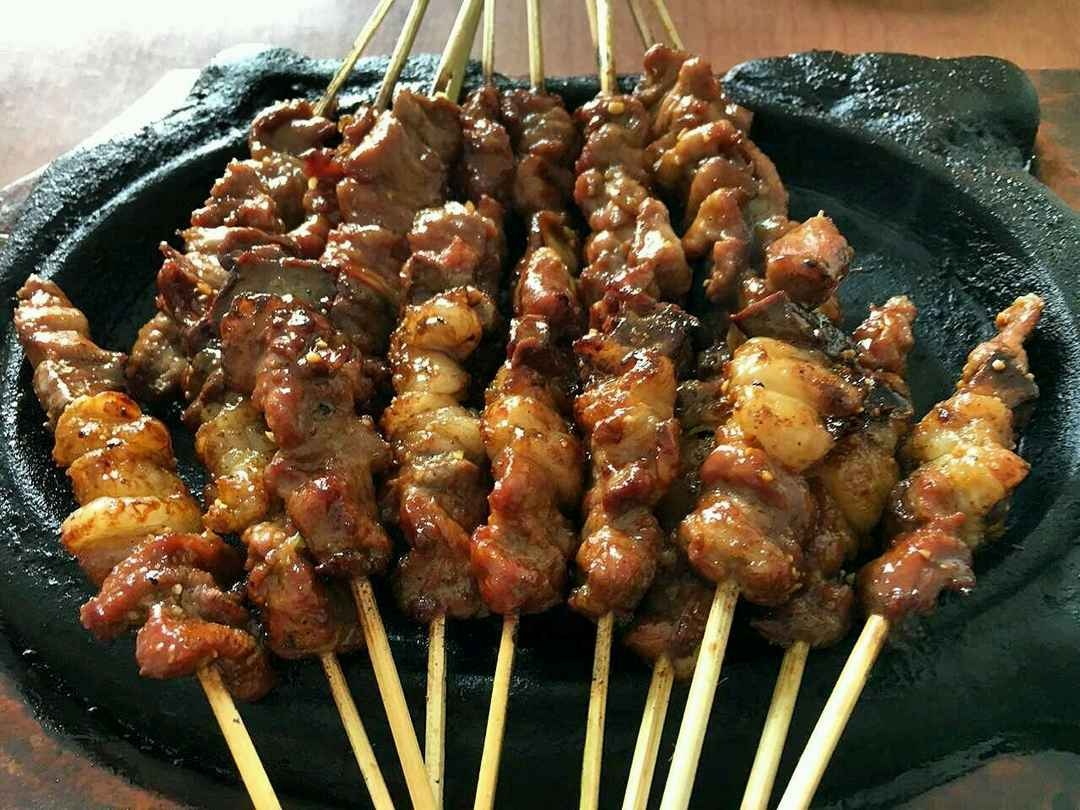sate: (563, 206, 947, 810), (450, 196, 710, 810), (180, 294, 470, 810), (375, 199, 504, 810)
